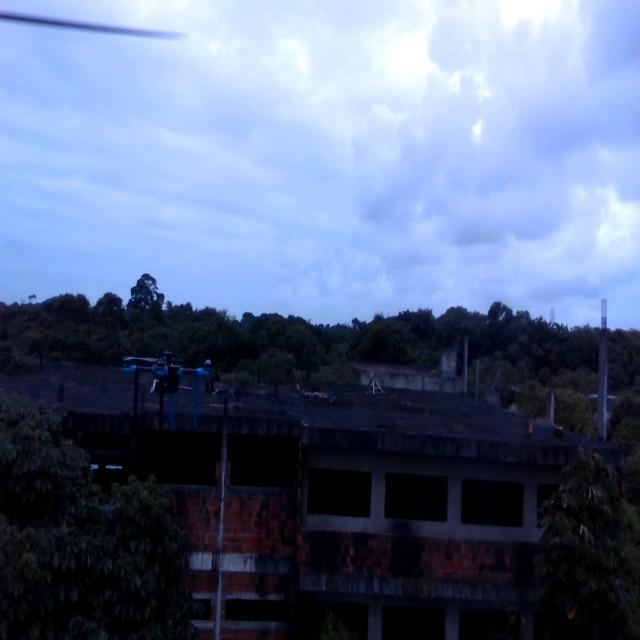-uav-: (102, 336, 232, 454)
